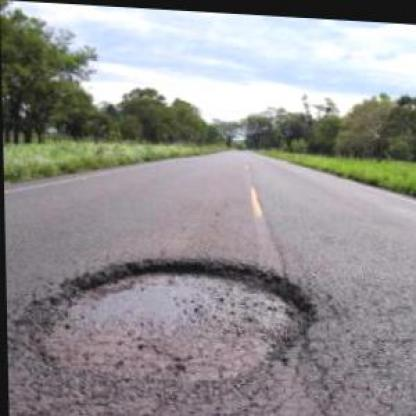pothole: (10, 244, 320, 408)
